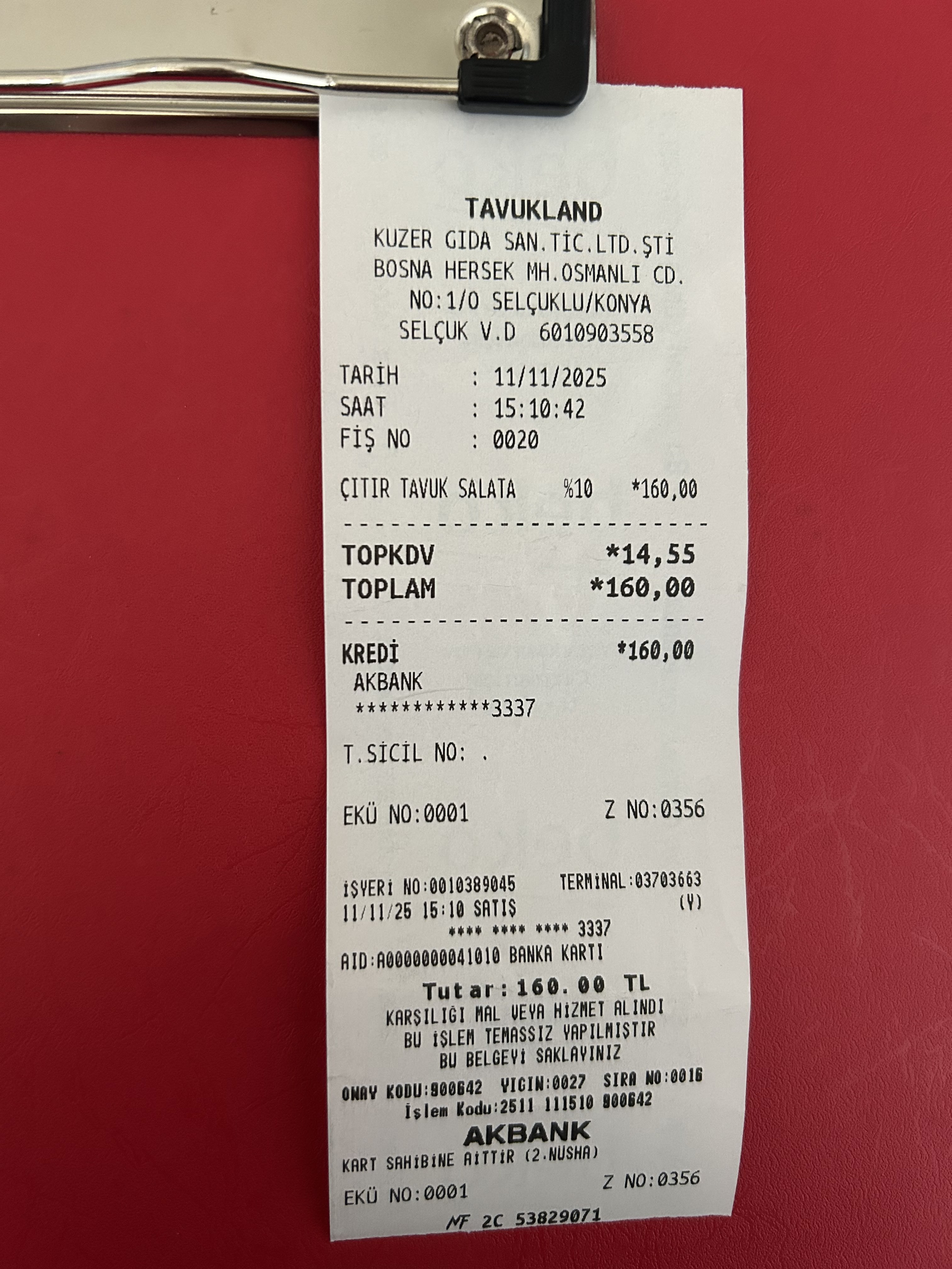date: (604, 573, 708, 602)
price: (487, 360, 617, 391)
workplace: (358, 192, 692, 318)
